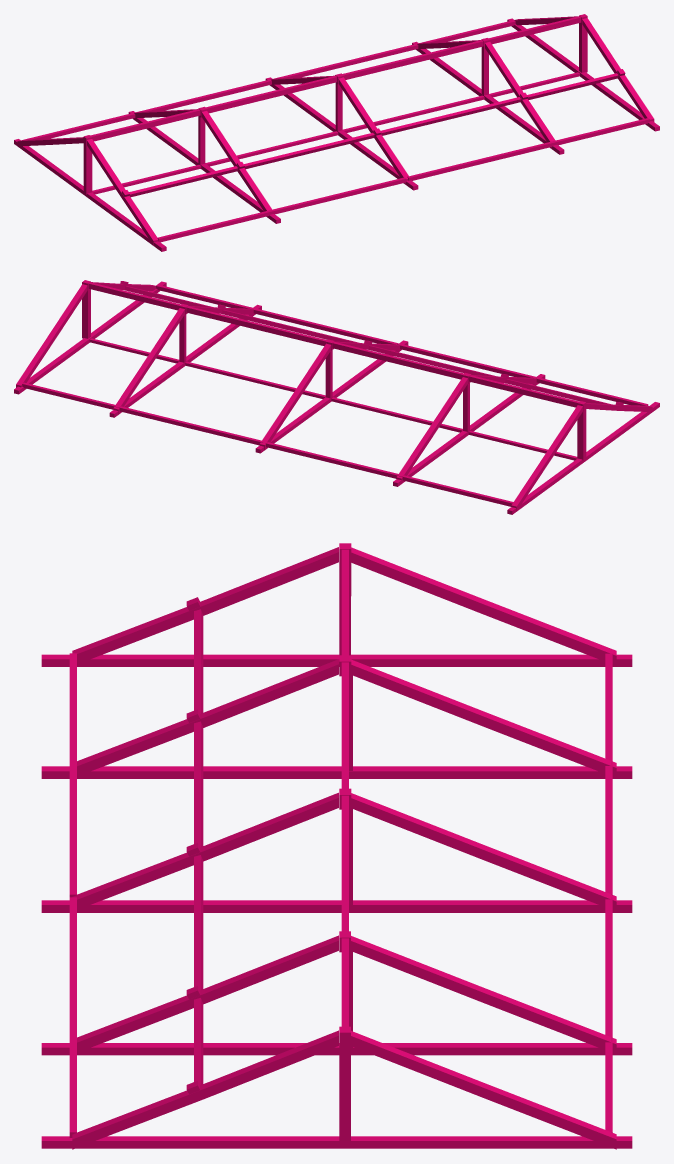
File: BH05B_Framework_01.fbx
The picture shows the model from 3 angles, top to bottom: view 1: azimuth 30°, elevation 25°; view 2: azimuth 150°, elevation 25°; view 3: azimuth 270°, elevation 25°; orthographic projection. The views are drawn at different scales.
Visible parts, largest first — view 1: BH05B_Framework_01; view 2: BH05B_Framework_01; view 3: BH05B_Framework_01.
Boxes of the visible parts, x1,y1,x2,y2 form: BH05B_Framework_01: (14, 14, 659, 251); BH05B_Framework_01: (14, 280, 659, 514); BH05B_Framework_01: (41, 543, 632, 1149).
Size of the model in its own units: 2290 by 258 by 1168.
